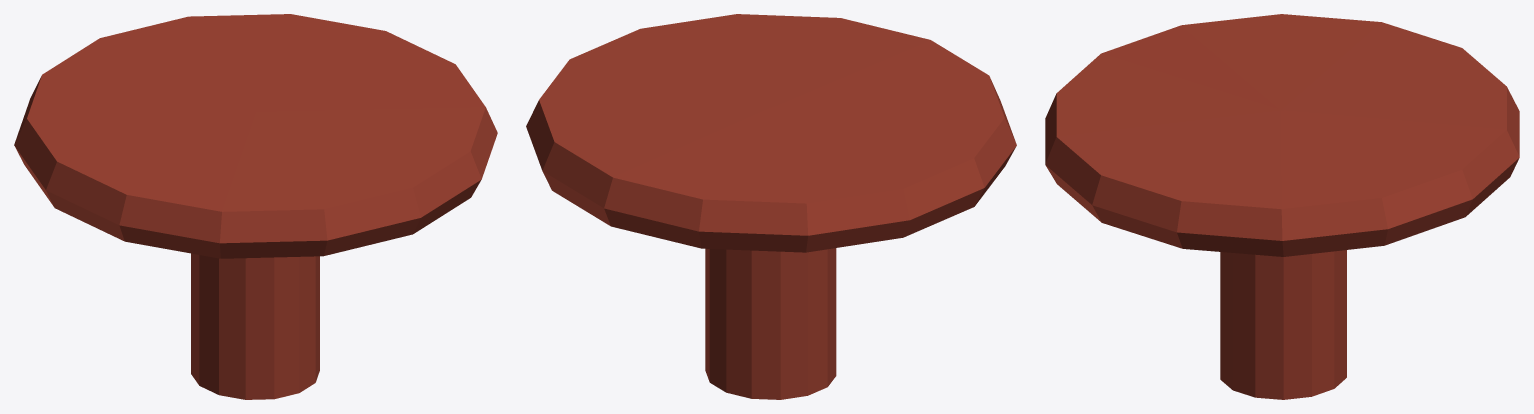
The model's file is Mothership_02_Radar_Red.fbx.
The picture shows the model from 3 angles, left to right: view 1: azimuth 30°, elevation 25°; view 2: azimuth 150°, elevation 25°; view 3: azimuth 270°, elevation 25°; orthographic projection.
Parts seen in each view (by area): view 1: Mothership_02_Radar_Red; view 2: Mothership_02_Radar_Red; view 3: Mothership_02_Radar_Red.
Boxes of the visible parts, x1,y1,x2,y2 form: Mothership_02_Radar_Red: [14, 14, 497, 399]; Mothership_02_Radar_Red: [526, 14, 1016, 399]; Mothership_02_Radar_Red: [1045, 14, 1519, 399].
Size of the model in its own units: 402 by 242 by 392.
Materials: 1 (1 with a texture image).
